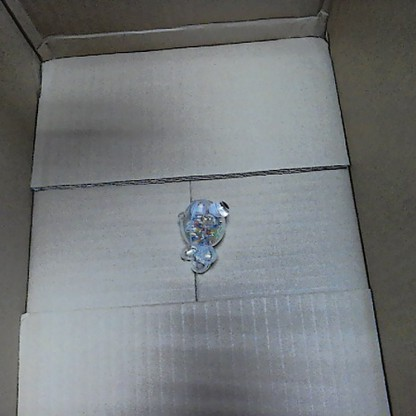whitefish: (175, 191, 231, 275)
